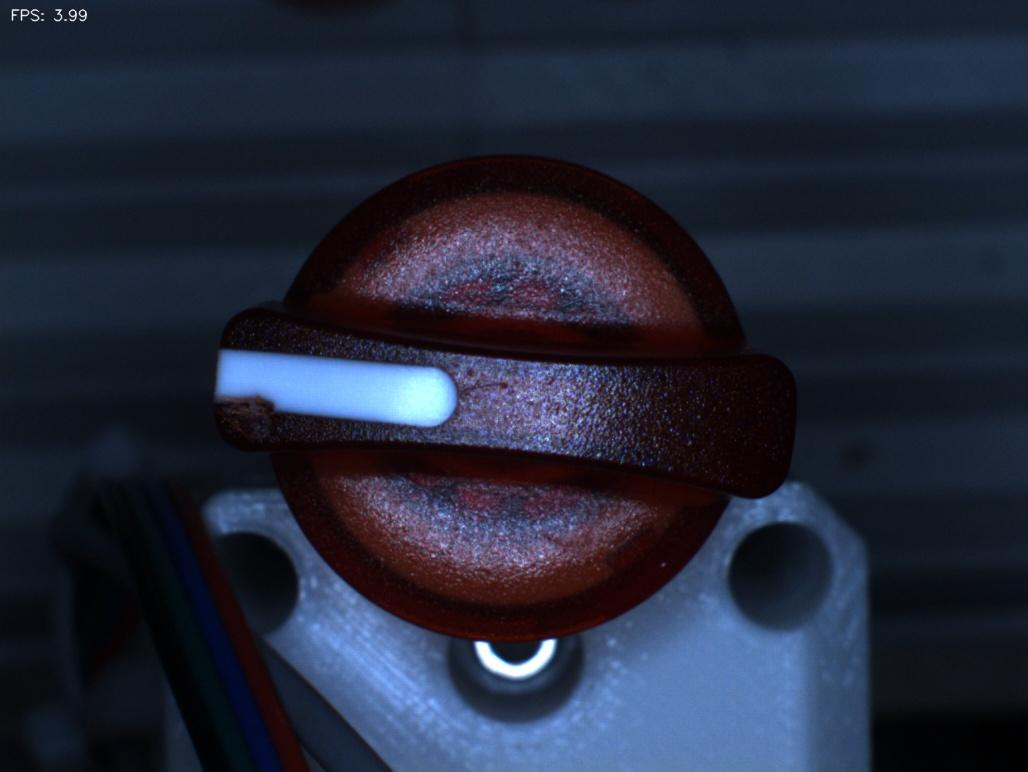Choc: (197, 379, 299, 471)
